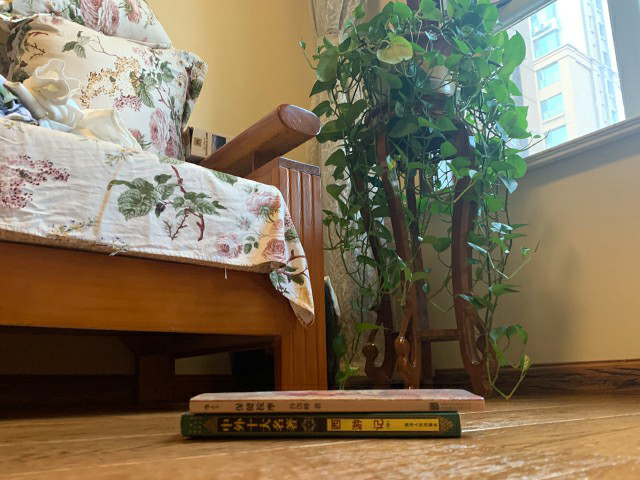book: (179, 389, 486, 440)
sofa: (1, 1, 327, 403)
